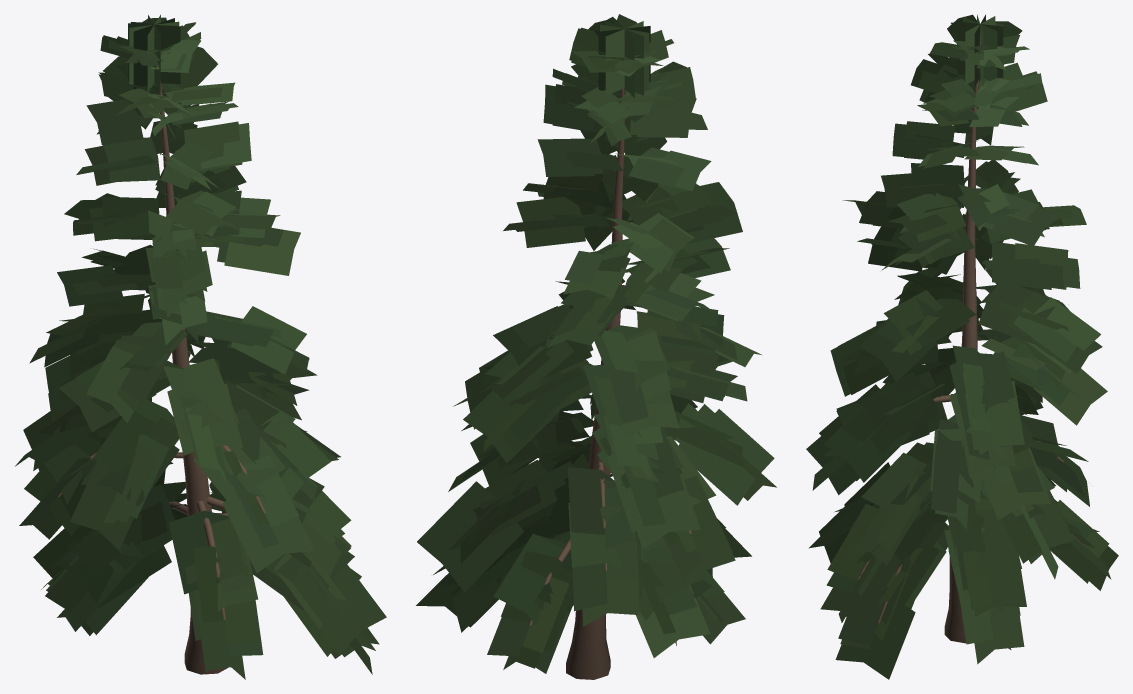
Rendered from conifer.pine_tall.summer.glb.
The picture shows the model from 3 angles, left to right: view 1: azimuth 30°, elevation 25°; view 2: azimuth 150°, elevation 25°; view 3: azimuth 270°, elevation 25°; orthographic projection. The views are drawn at different scales.
Parts seen in each view (by area): view 1: conifer_pine_tall_summer; view 2: conifer_pine_tall_summer; view 3: conifer_pine_tall_summer.
Boxes of the visible parts, x1=… form: conifer_pine_tall_summer: x1=15, y1=14, x2=386, y2=679; conifer_pine_tall_summer: x1=416, y1=14, x2=776, y2=679; conifer_pine_tall_summer: x1=806, y1=14, x2=1118, y2=679.
Size of what is drawn, in the model's own units: 5.48 by 11.11 by 5.33.
